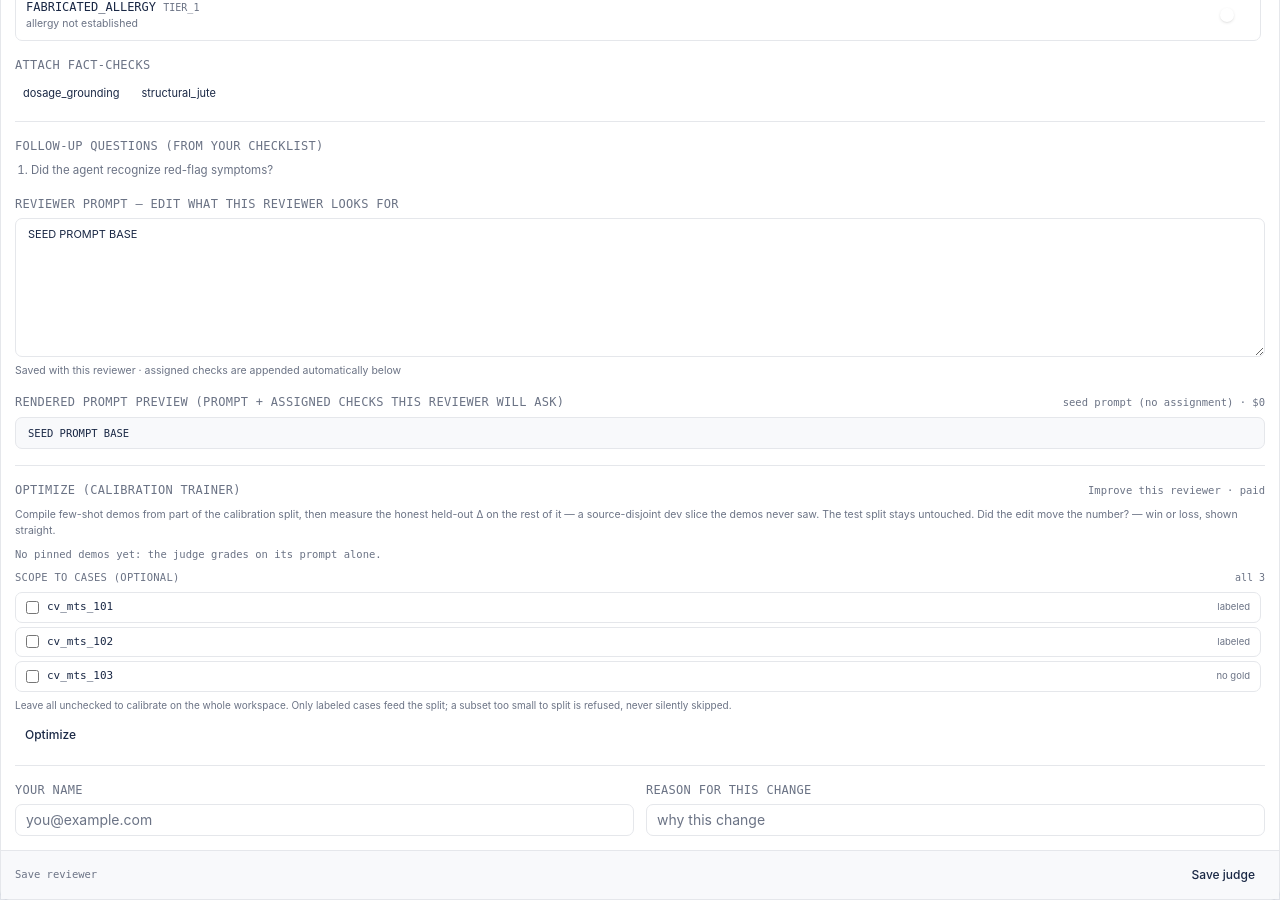
JudgeEditor (tool-judge_editor) › optimize: a pinned set says so
(page scrolled)
Click the button "Optimize" at (50,735), box left=15, top=721, right=86, bottom=749
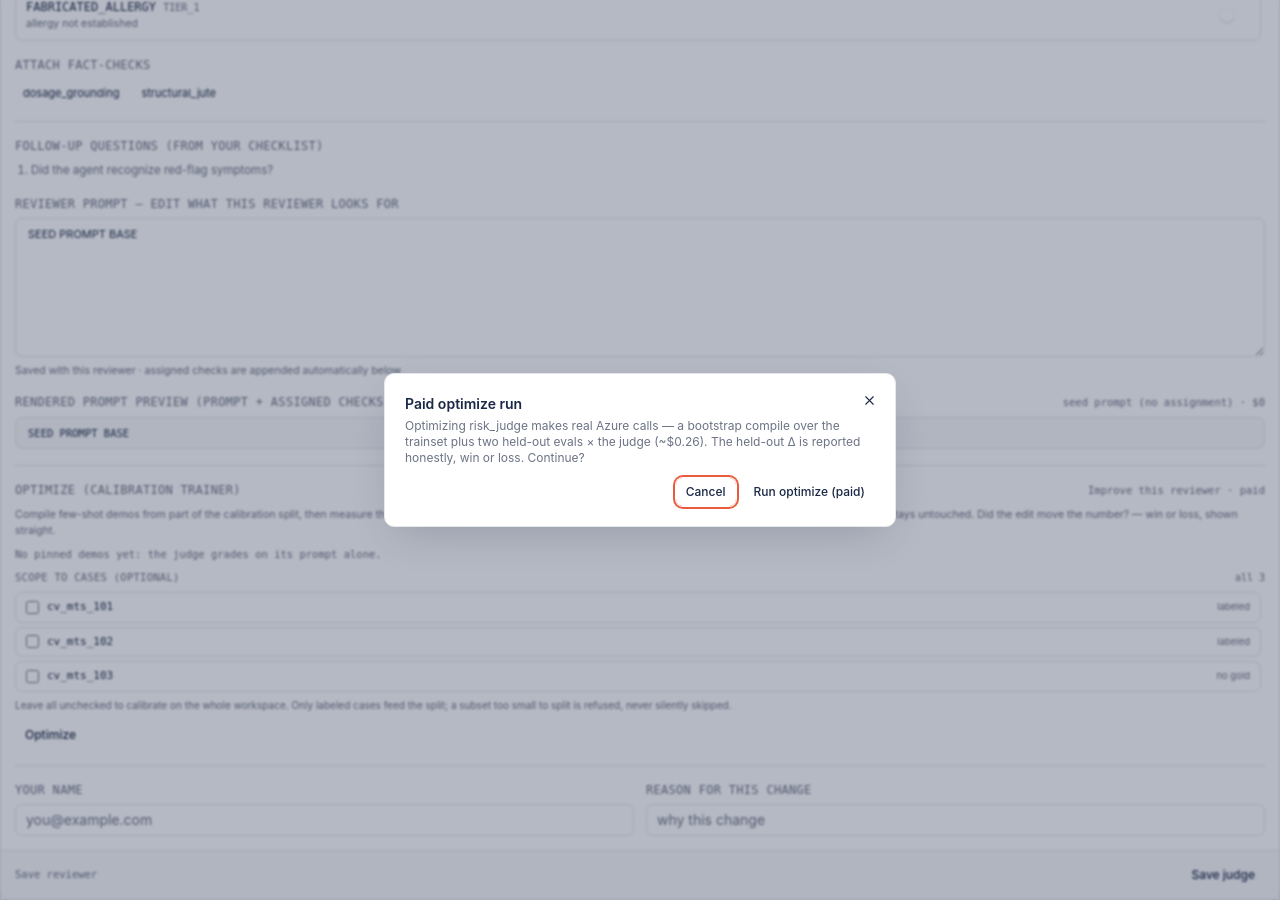
Click the button with test id "optimize-confirm" at (809,492), box left=744, top=478, right=875, bottom=506
(page scrolled)
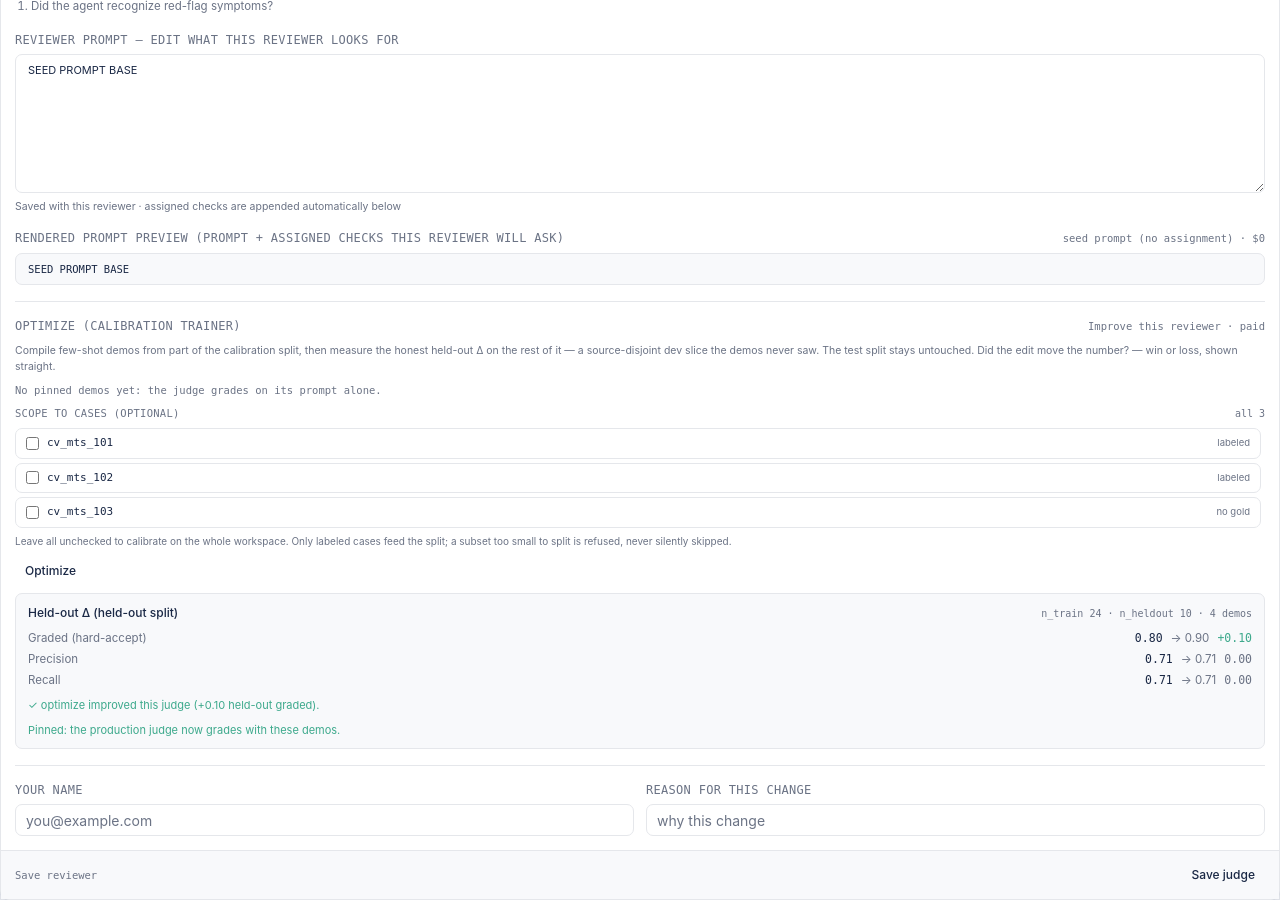
Check: the text with test id "optimize-pin-note" shows "now grades with these demos", box left=28, top=723, right=340, bottom=737
